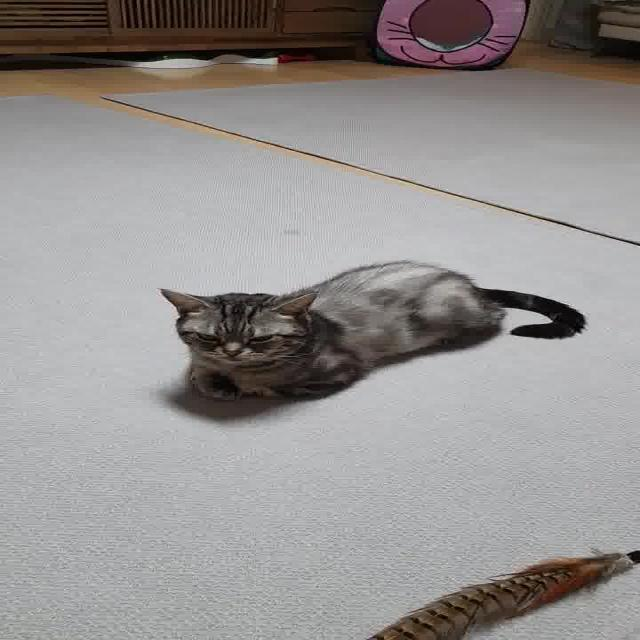cat: (130, 252, 604, 408)
